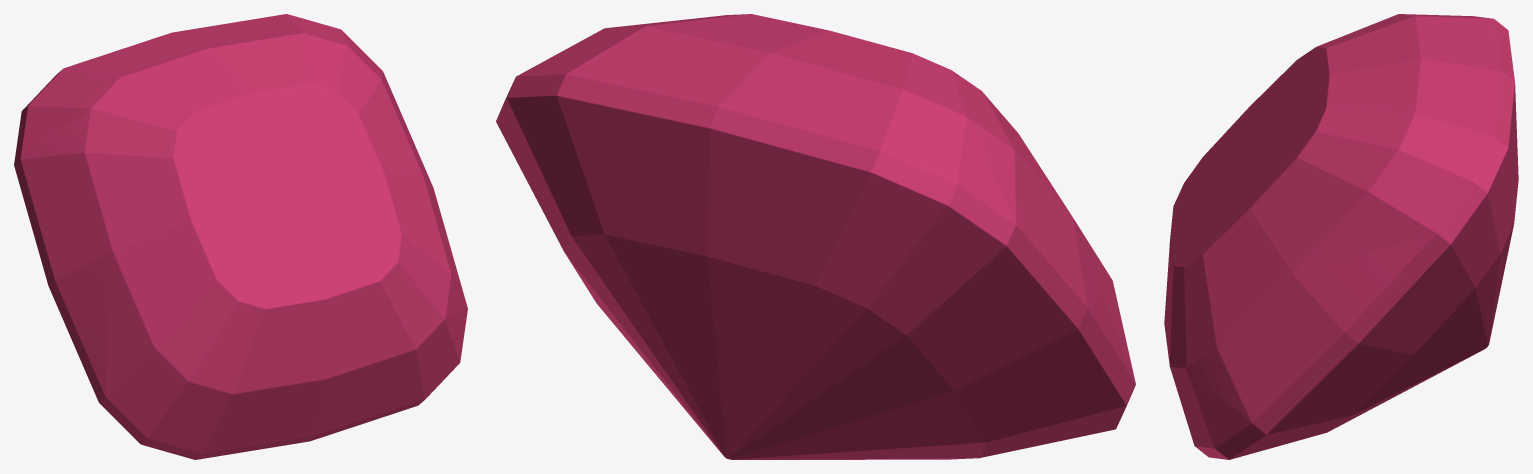
Rendered from spinel.glb.
3 renders of one model, left to right at view 1: azimuth 30°, elevation 25°; view 2: azimuth 150°, elevation 25°; view 3: azimuth 270°, elevation 25°, orthographic. The views are drawn at different scales.
Visible parts, largest first — view 1: spinel.001; view 2: spinel.001; view 3: spinel.001.
Boxes of the visible parts, x1=… form: spinel.001: x1=14, y1=14, x2=467, y2=459; spinel.001: x1=496, y1=14, x2=1135, y2=459; spinel.001: x1=1164, y1=14, x2=1518, y2=459.
Bounding box in the file's own units: 2.1 × 1.69 × 1.57.
